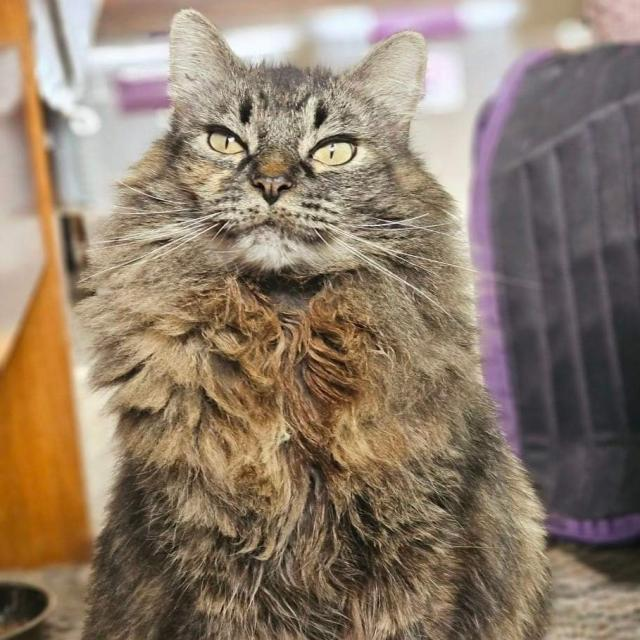domestic_long_hair_cat: (75, 3, 501, 402)
